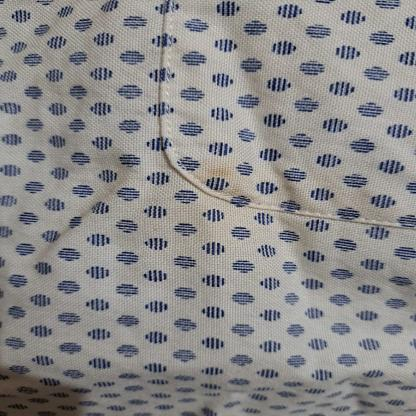spot: (184, 160, 253, 212)
